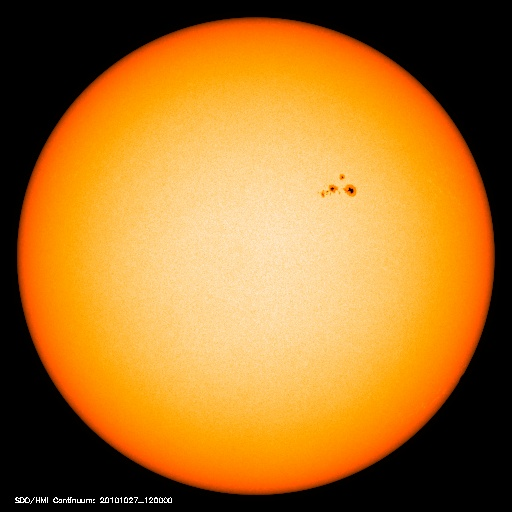sunspot: (313, 168, 362, 207)
